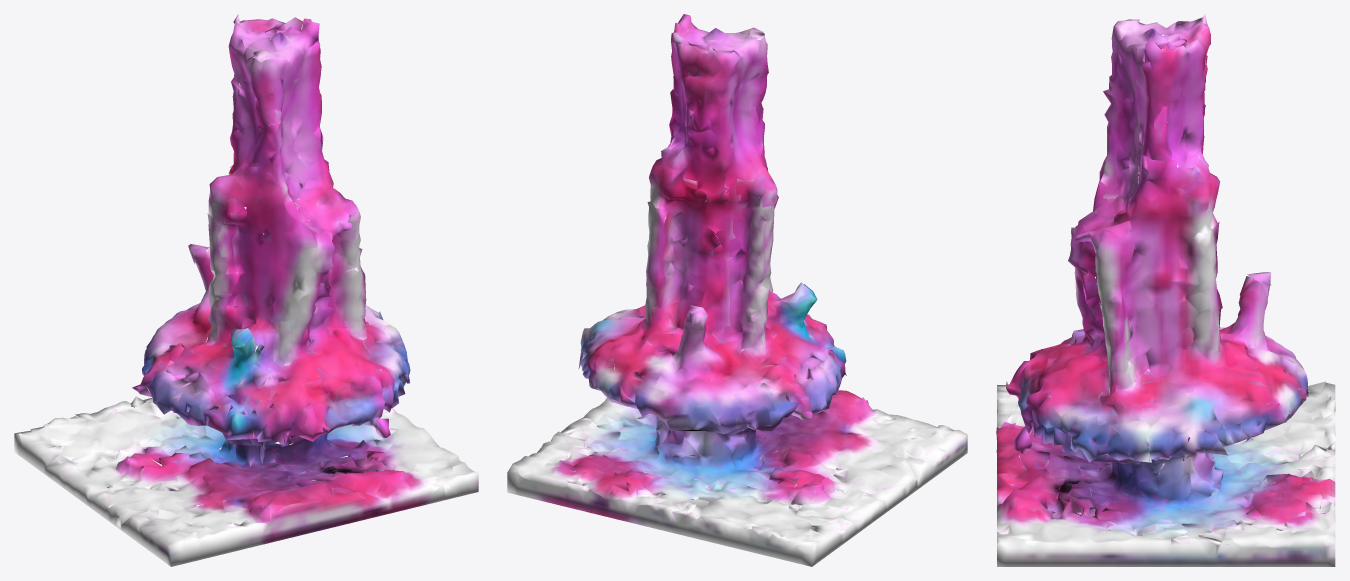
The model's file is reduced_tex.glb.
3 views of the same model, side by side, from view 1: azimuth 30°, elevation 25°; view 2: azimuth 150°, elevation 25°; view 3: azimuth 270°, elevation 25° (orthographic). The views are drawn at different scales.
Parts seen in each view (by area): view 1: reduced_textures; view 2: reduced_textures; view 3: reduced_textures.
Boxes of the visible parts, x1,y1,x2,y2 form: reduced_textures: (14, 14, 478, 566); reduced_textures: (507, 14, 967, 566); reduced_textures: (996, 14, 1335, 566).
Bounding box in the file's own units: 0.9748 × 1.34 × 0.8644.
Materials: 1 (1 with a texture image).
